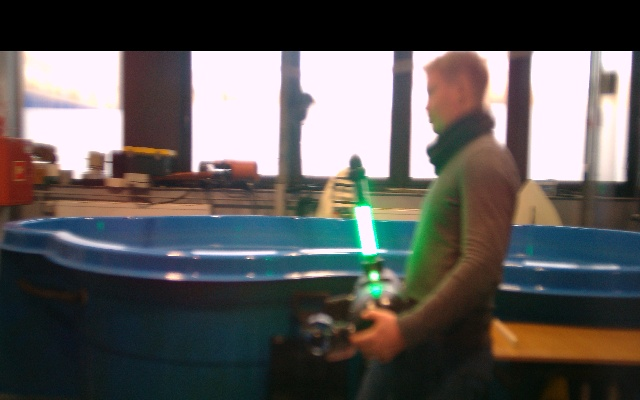green: (353, 205, 379, 263)
